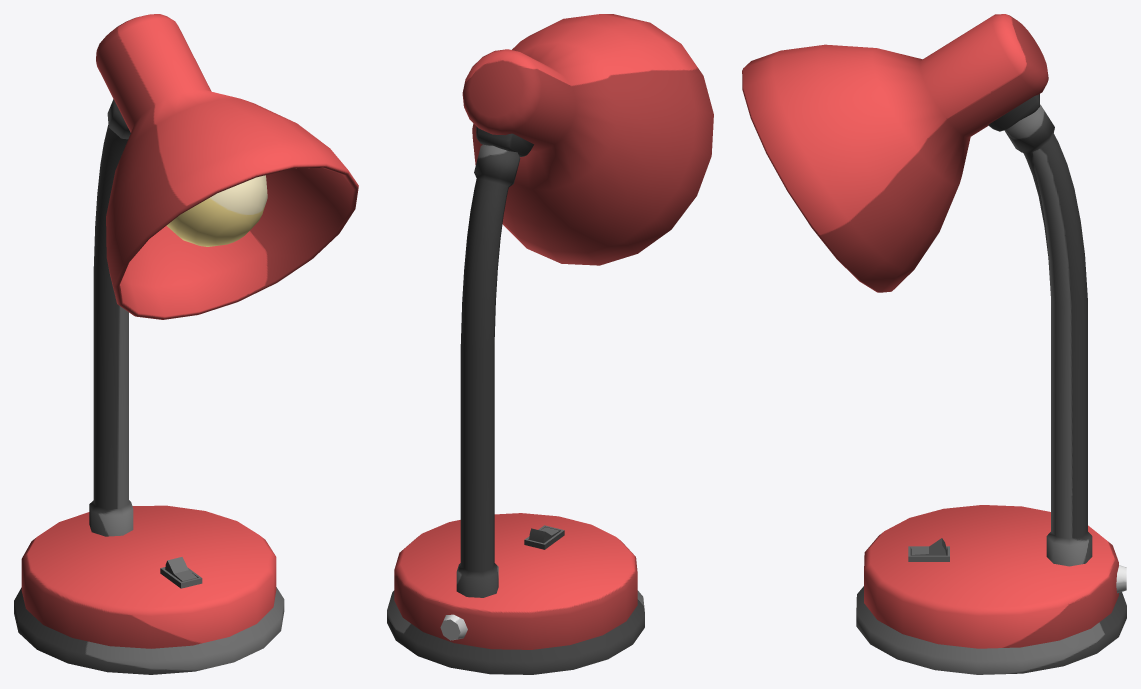
The model's file is lampara-model.glb.
The picture shows the model from 3 angles, left to right: view 1: azimuth 30°, elevation 25°; view 2: azimuth 150°, elevation 25°; view 3: azimuth 270°, elevation 25°; orthographic projection. The views are drawn at different scales.
Visible parts, largest first — view 1: lampara_1, lampara_3, lampara_2, foco_4; view 2: lampara_1, lampara_3; view 3: lampara_1, lampara_3.
Part boxes in pixels (x1,y1,x2,y2): lampara_1: (21, 14, 358, 648); lampara_3: (14, 99, 284, 674); lampara_2: (120, 168, 353, 316); foco_4: (166, 175, 267, 246); lampara_1: (394, 14, 713, 649); lampara_3: (387, 126, 644, 674); lampara_1: (742, 14, 1118, 648); lampara_3: (856, 94, 1126, 674).
Size of the model in its own units: 16.01 by 38.83 by 22.58.
Materials: 1 (1 with a texture image).
